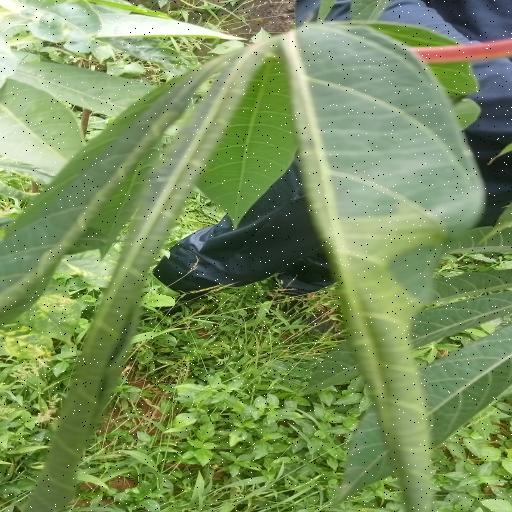Cassava_Bacterial_Disease: (0, 18, 491, 512)
